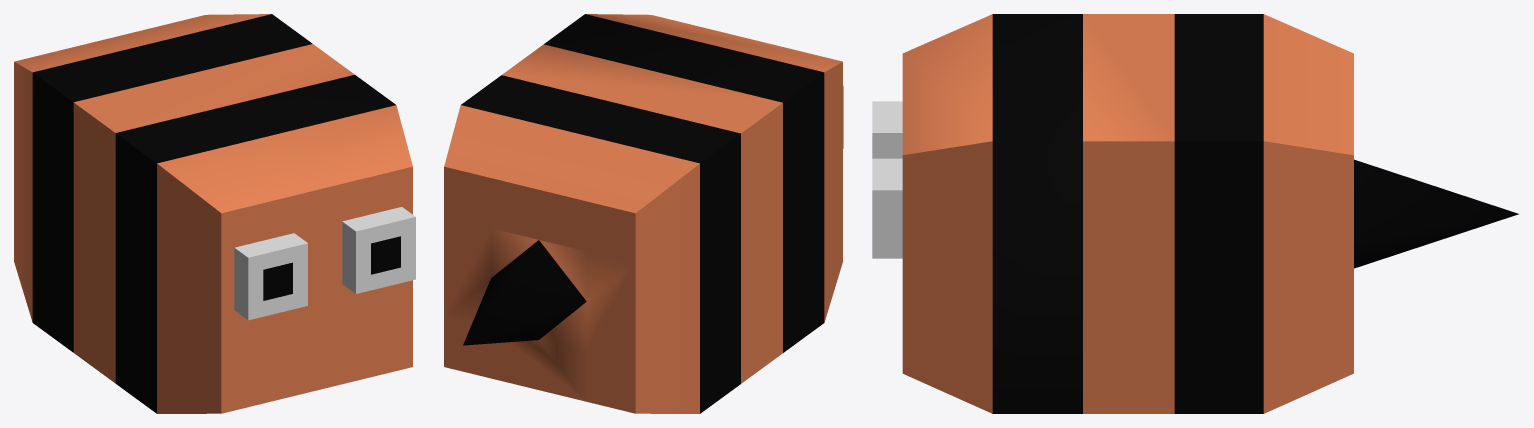
File: Enemy Bee (red).fbx
3 renders of one model, left to right at view 1: azimuth 30°, elevation 25°; view 2: azimuth 150°, elevation 25°; view 3: azimuth 270°, elevation 25°, orthographic. The views are drawn at different scales.
Parts seen in each view (by area): view 1: pCube8; view 2: pCube8; view 3: pCube8.
Part boxes in pixels (x1=…): pCube8: x1=14, y1=14, x2=415, y2=413; pCube8: x1=444, y1=14, x2=843, y2=413; pCube8: x1=872, y1=14, x2=1518, y2=413.
Size of the model in its own units: 1 by 1 by 2.15.
